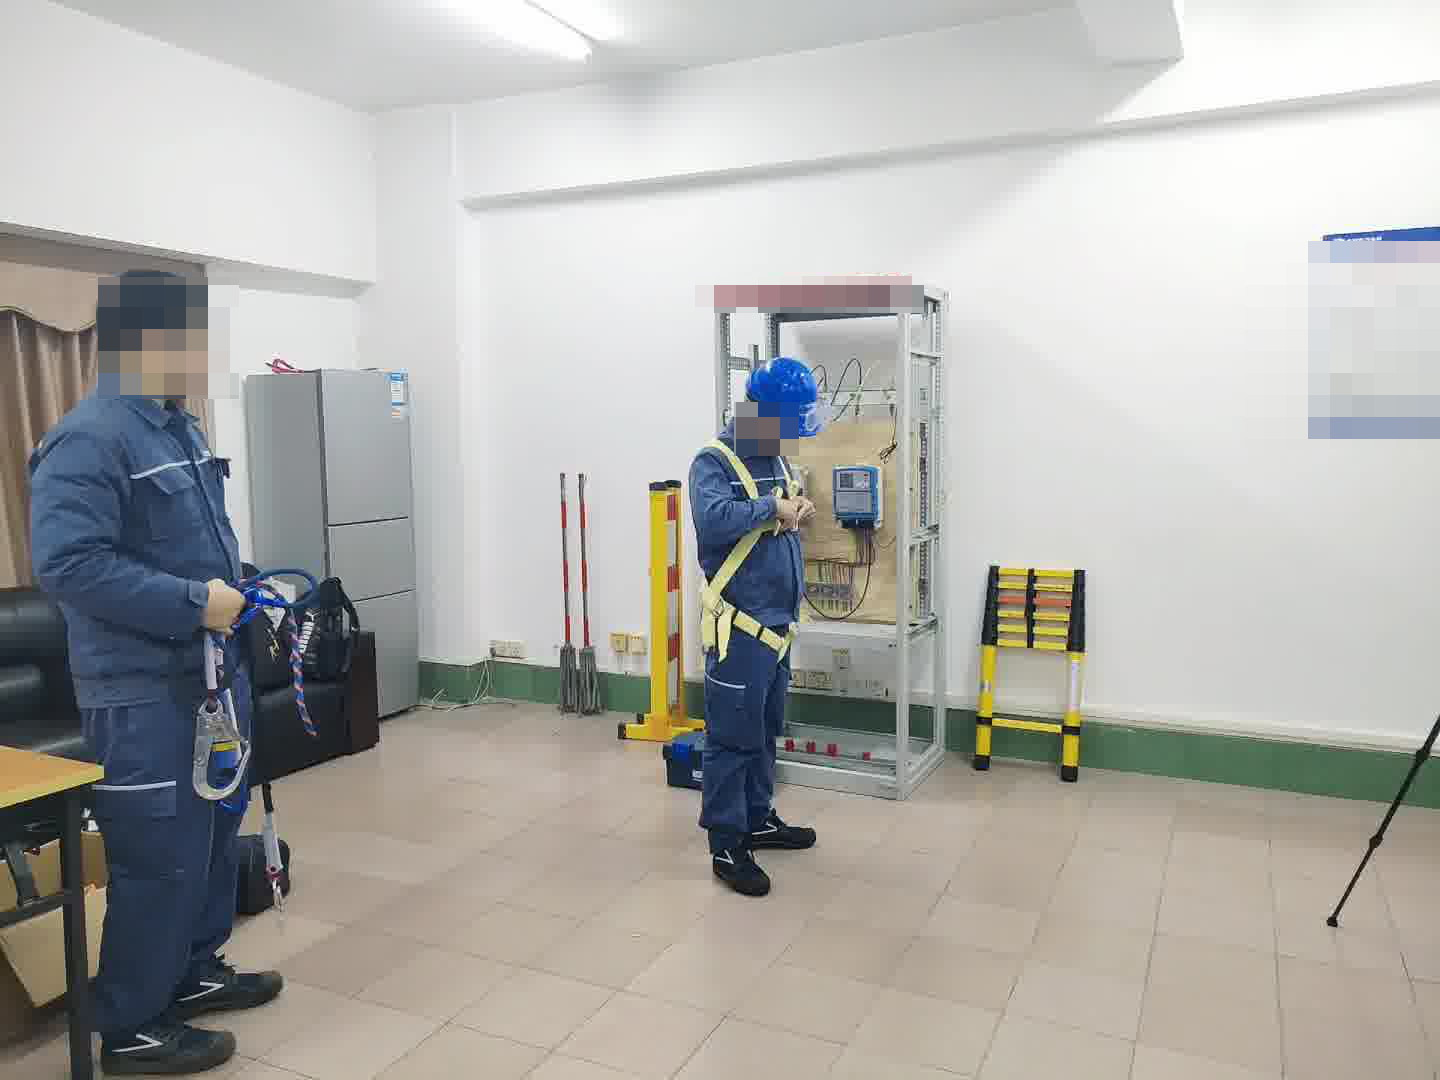downsuit: (82, 698, 251, 1022), (699, 635, 794, 835)
halt: (744, 356, 821, 444)
hand: (203, 574, 246, 634), (777, 495, 817, 528)
inear: (745, 387, 772, 443)
noear: (129, 318, 172, 380)
person: (22, 266, 310, 1065), (684, 356, 829, 898)
safebelt: (690, 434, 812, 665)
unhalt: (93, 271, 219, 399)
upsuit: (27, 370, 248, 652), (691, 431, 808, 619)
